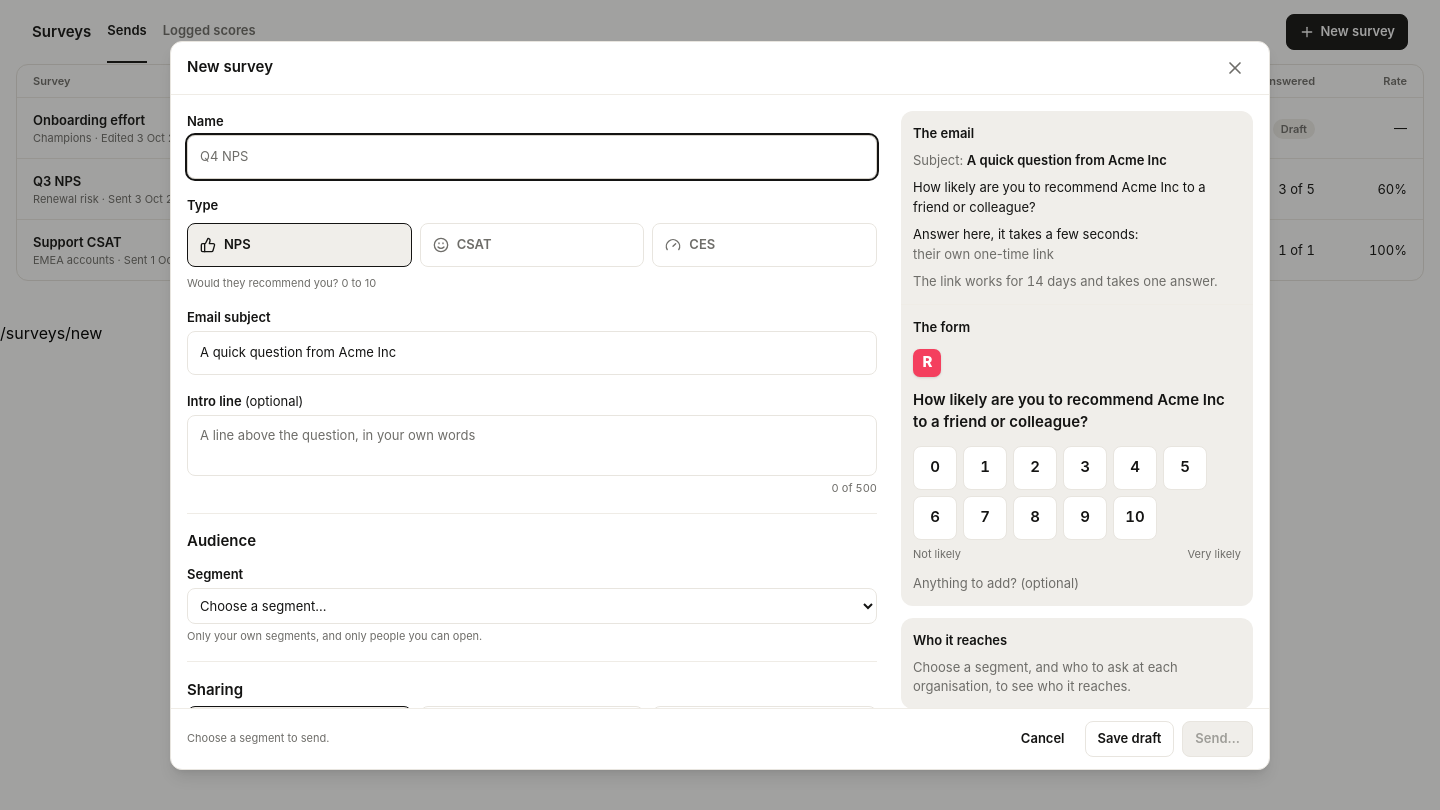
it: the New survey modal (spec §2.2) › opens over the Sends list with NPS chosen, the subject filled and the preview asking the question
The width and height of the screenshot is (1440, 810).
Check: the list named "Survey sends" is shown, box [17,98,1423,280]
Check: the radio button labelled "NPS" is checked, box [187,222,412,266]
Click the radio button labelled "CES": (765, 244) [652,222,877,266]
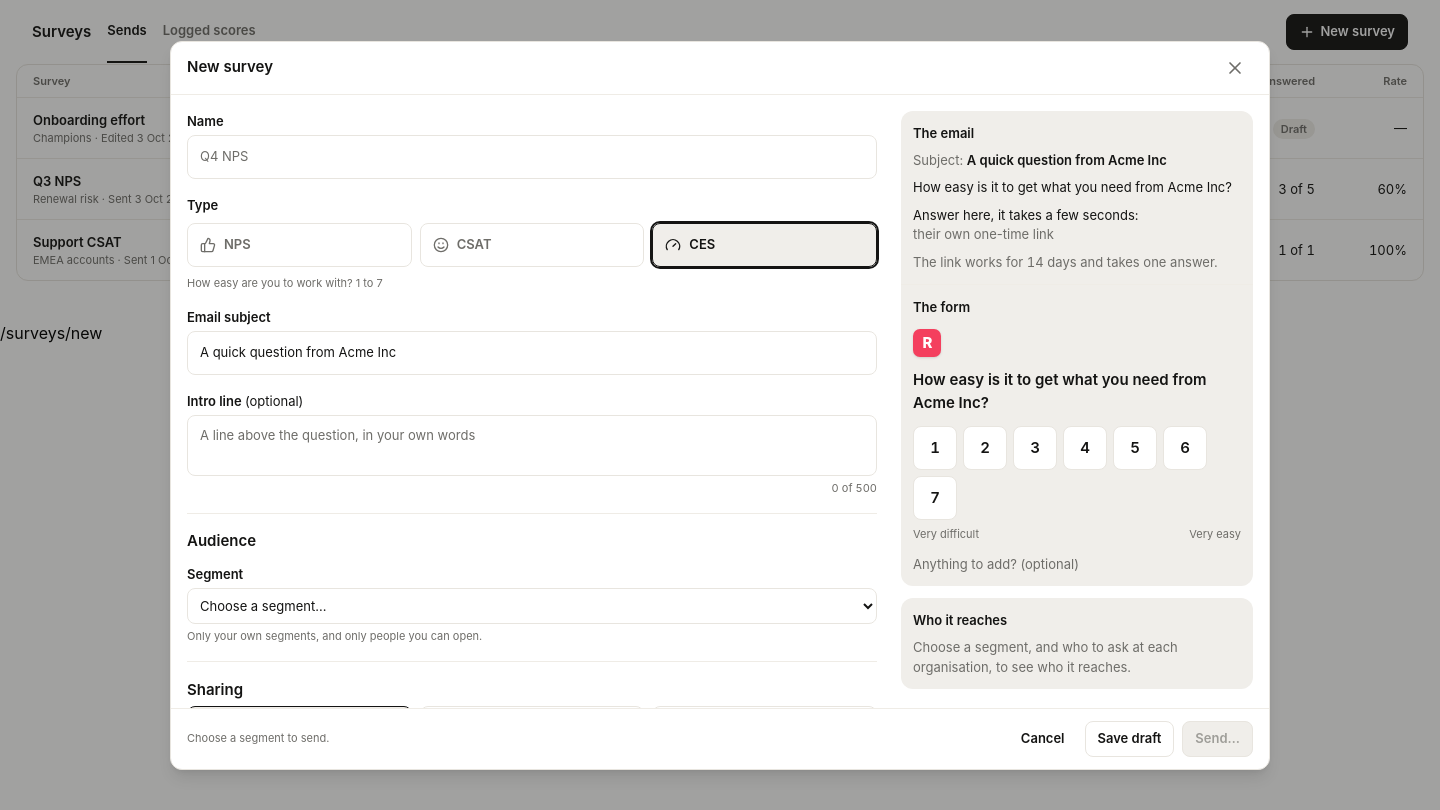
Check: the element "The form" shows "How easy is it to get what you need from Acme Inc?", box [913,370,1206,412]
